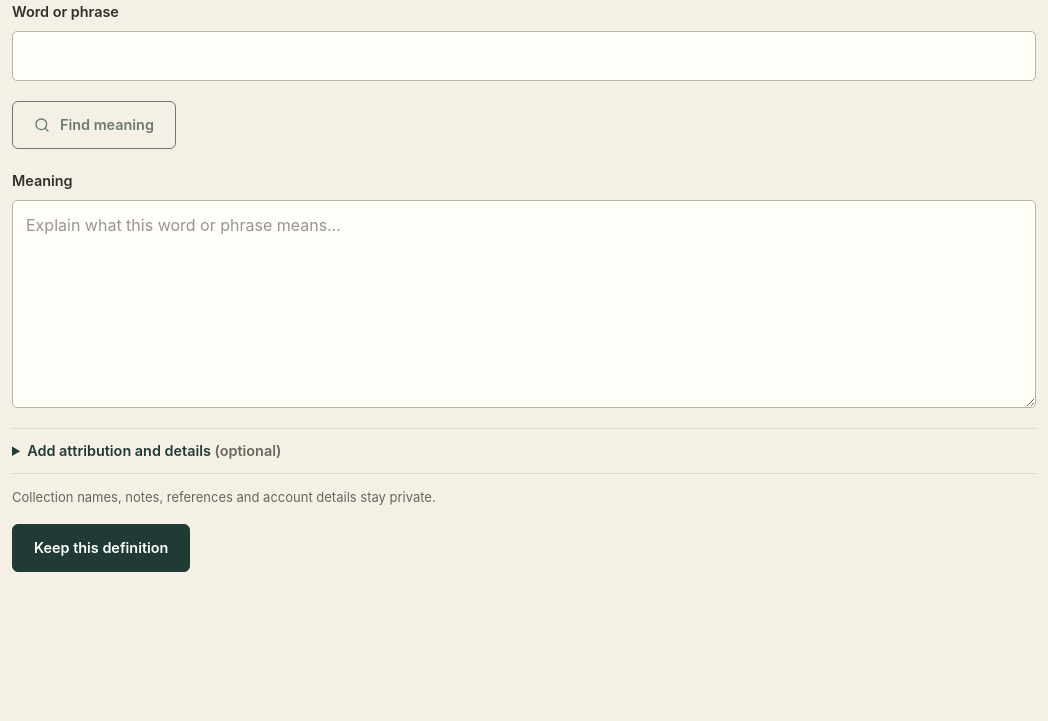
Scenario: does not overwrite a manual draft when lookup finishes and applies a selected meaning explicitly
The width and height of the screenshot is (1048, 721).
Step 1. Type "serendipity" into the field labelled "Word or phrase" → point(524, 56), box [12,31,1036,81]
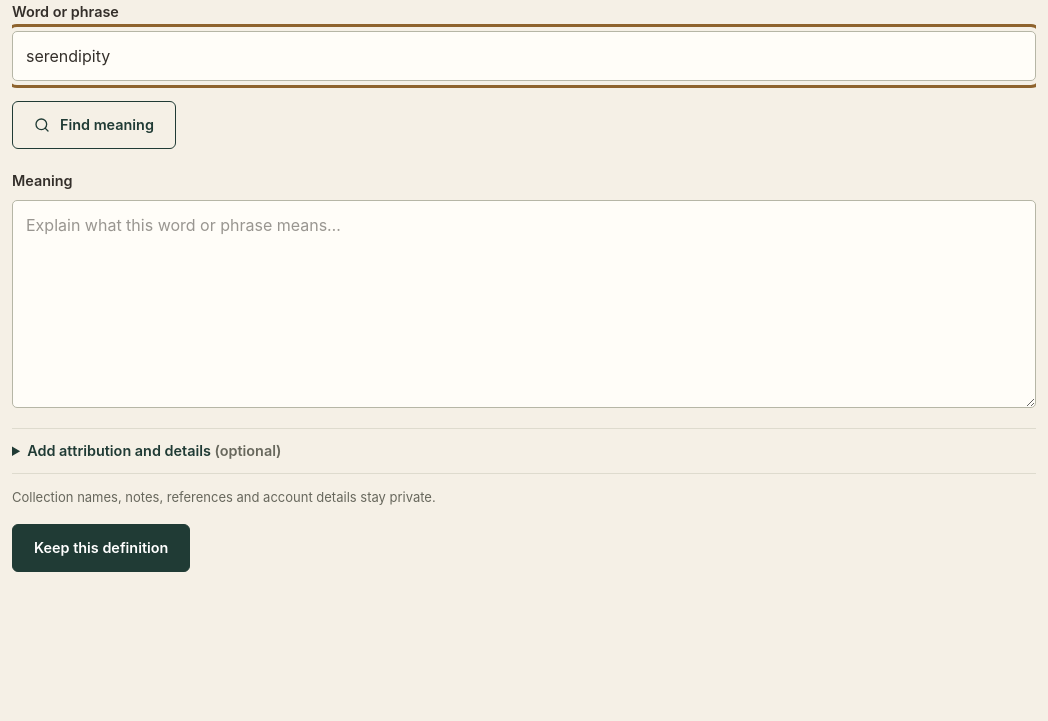
Step 2. Click the button "Find meaning" → point(94, 125), box [12,101,176,149]
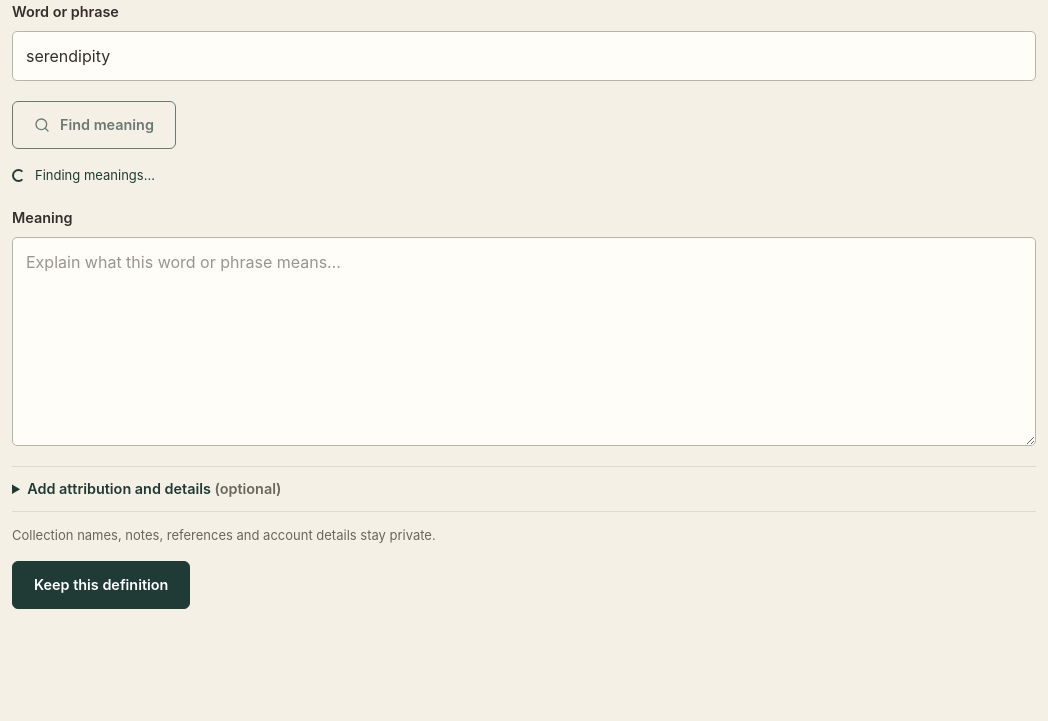
Result: the message shows "Finding meanings" at [35,167,155,183]
Step 3. Type "My own explanation." into the text box labelled "Meaning" → point(524, 341), box [12,237,1036,446]
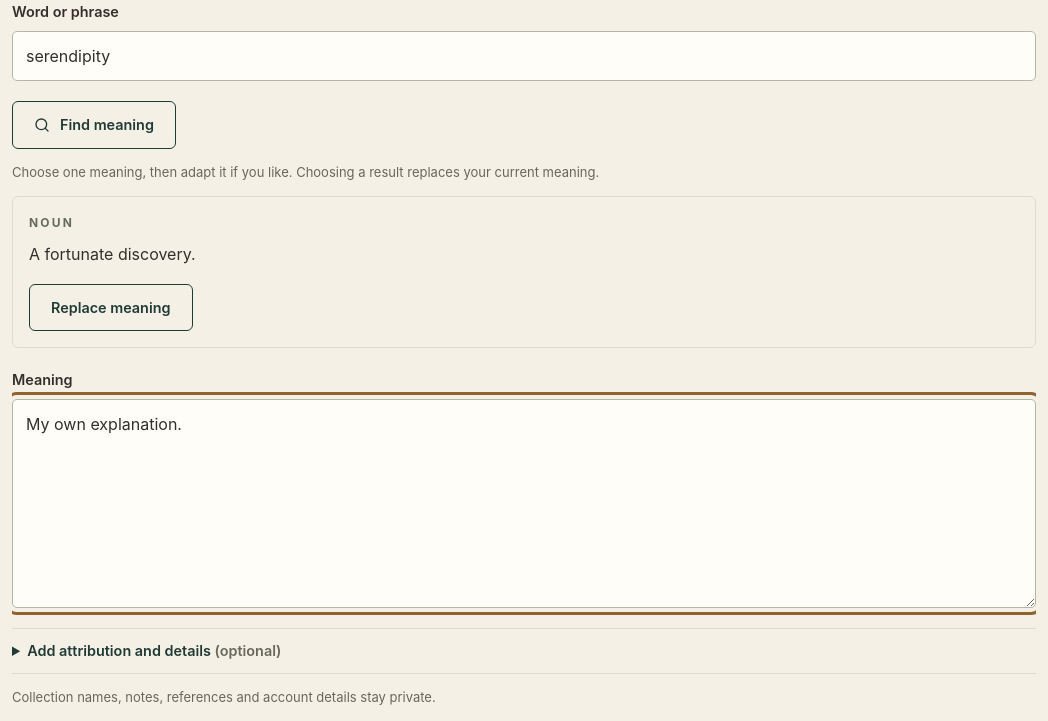
Result: the text "A fortunate discovery." is shown at [29,244,196,264]
Step 4. Click the button "Replace meaning" → point(111, 307), box [29,284,192,331]
(page scrolled)
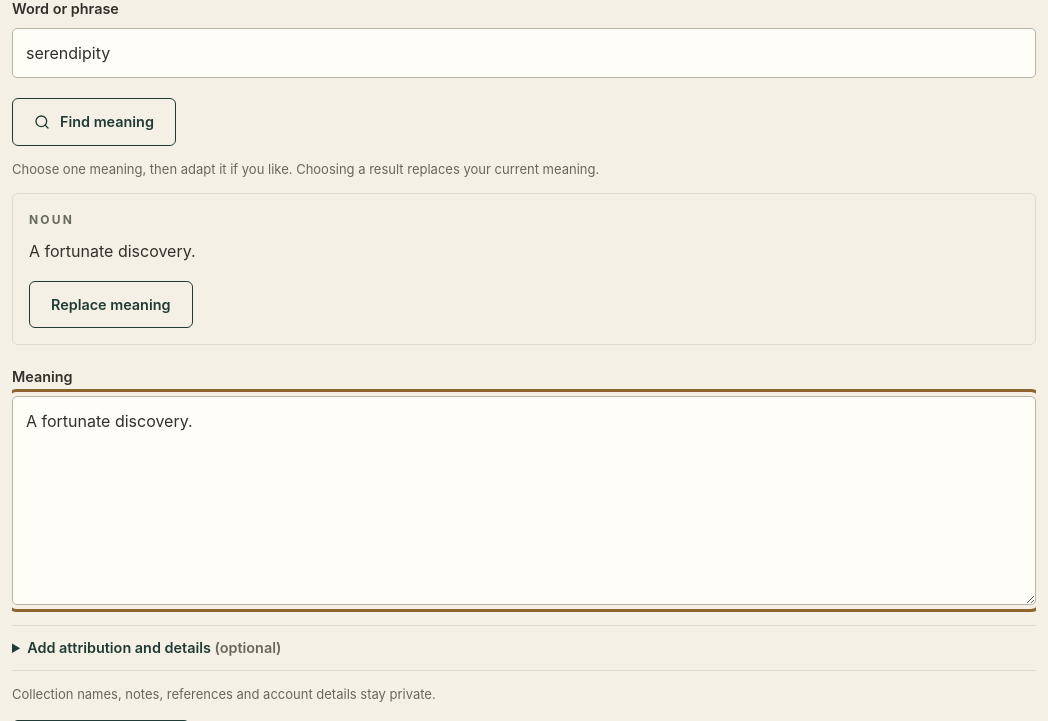
Result: the text box labelled "Meaning" holds "A fortunate discovery." at [12,396,1036,605]
